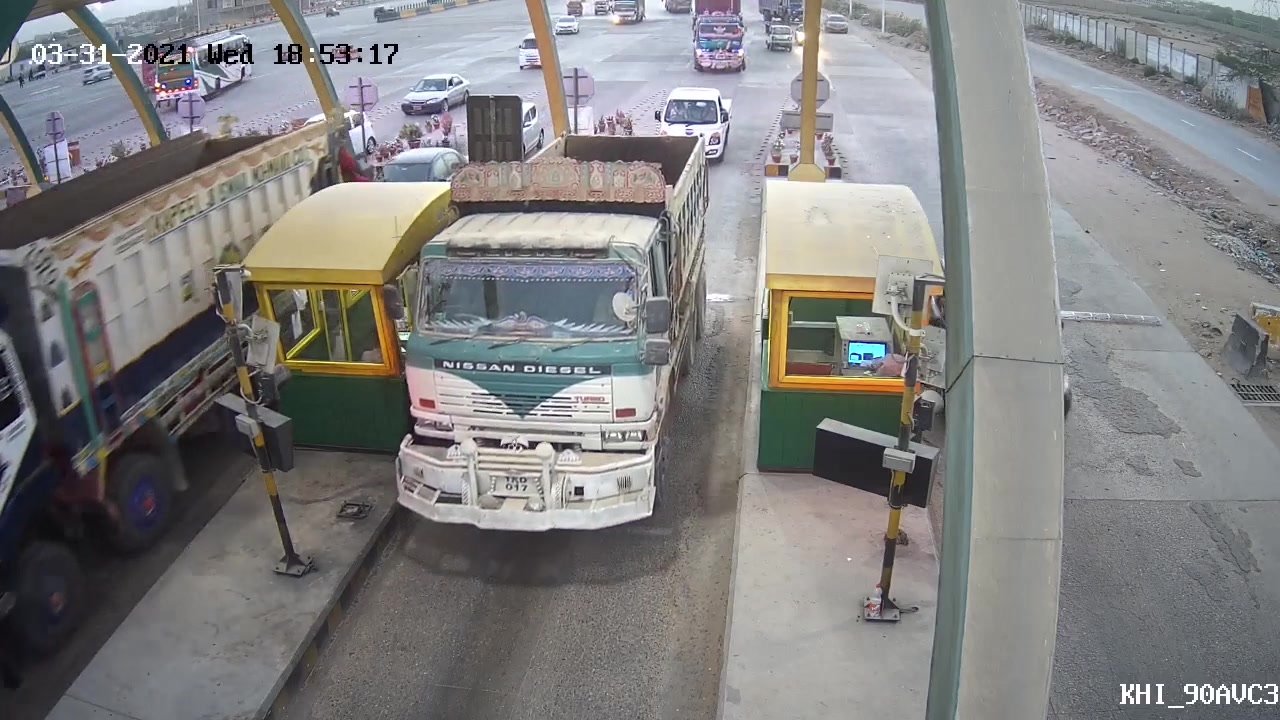F5: (380, 128, 719, 542)
